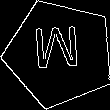M_S: (34, 27, 85, 80)
